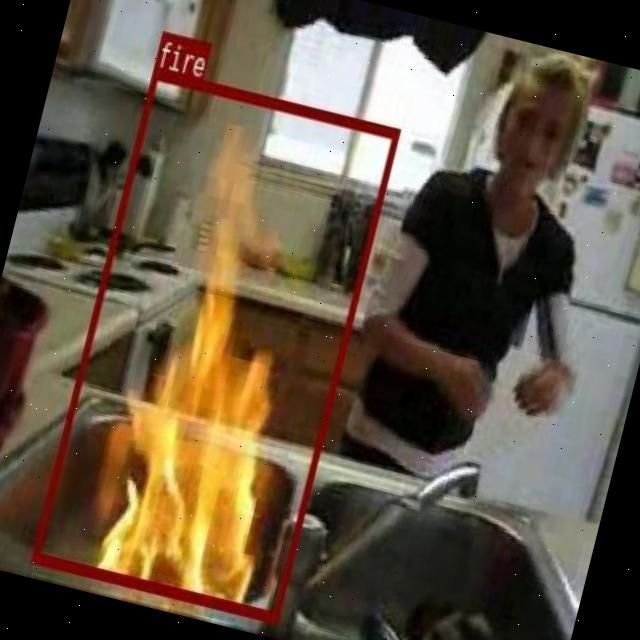fire: (29, 66, 399, 621)
